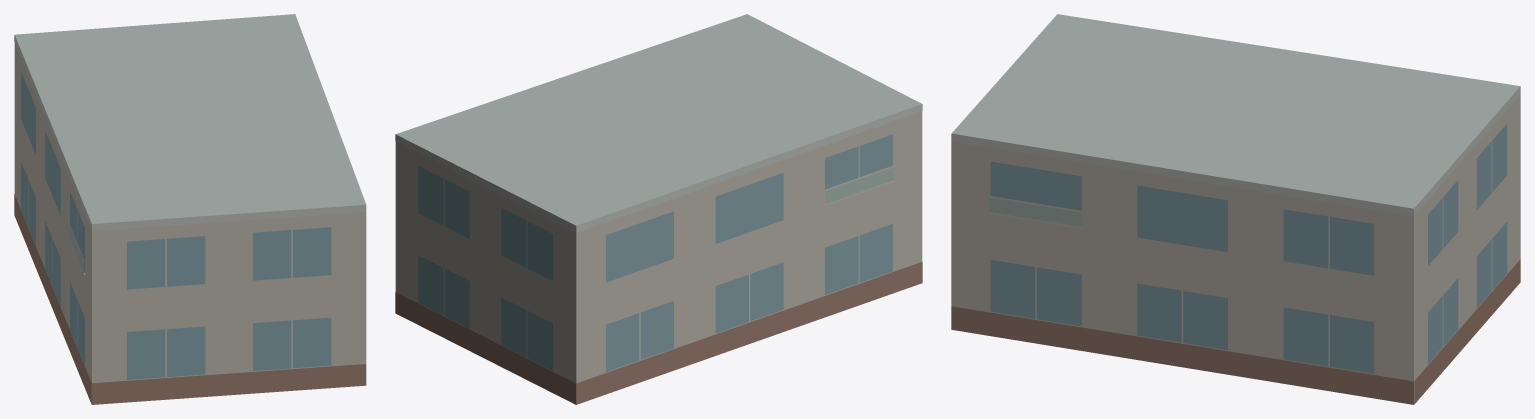
File: survey-upis-32991667.glb
3 views of the same model, side by side, from view 1: azimuth 30°, elevation 25°; view 2: azimuth 150°, elevation 25°; view 3: azimuth 270°, elevation 25° (orthographic). The views are drawn at different scales.
Visible parts, largest first — view 1: survey-upis-32991667.tmp; view 2: survey-upis-32991667.tmp; view 3: survey-upis-32991667.tmp.
Boxes of the visible parts, bbox=[...] form: survey-upis-32991667.tmp: bbox=[14, 14, 366, 404]; survey-upis-32991667.tmp: bbox=[395, 14, 922, 404]; survey-upis-32991667.tmp: bbox=[951, 14, 1520, 404].
Bounding box in the file's own units: 12.99 × 6.1 × 16.05.
